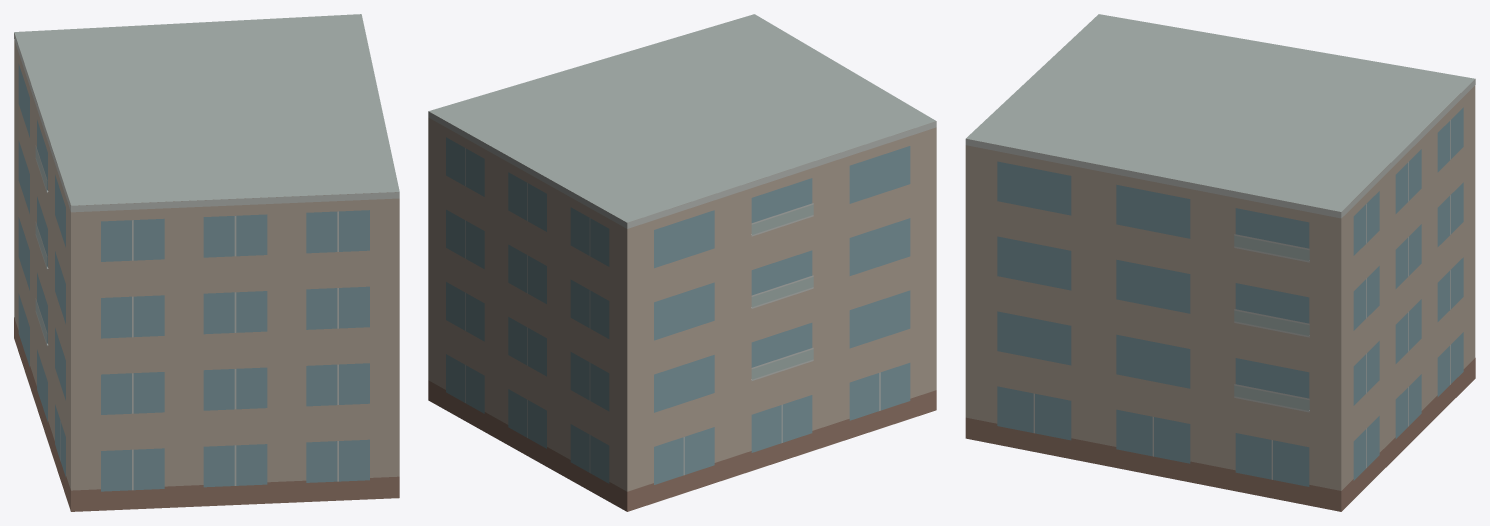
Rendered from survey-upis-32779605.glb.
The picture shows the model from 3 angles, left to right: view 1: azimuth 30°, elevation 25°; view 2: azimuth 150°, elevation 25°; view 3: azimuth 270°, elevation 25°; orthographic projection. The views are drawn at different scales.
Visible parts, largest first — view 1: survey-upis-32779605.tmp; view 2: survey-upis-32779605.tmp; view 3: survey-upis-32779605.tmp.
Boxes of the visible parts, x1=… form: survey-upis-32779605.tmp: x1=14, y1=14, x2=399, y2=511; survey-upis-32779605.tmp: x1=428, y1=14, x2=936, y2=511; survey-upis-32779605.tmp: x1=965, y1=14, x2=1475, y2=511.
Bounding box in the file's own units: 16.02 × 11.3 × 17.42.
